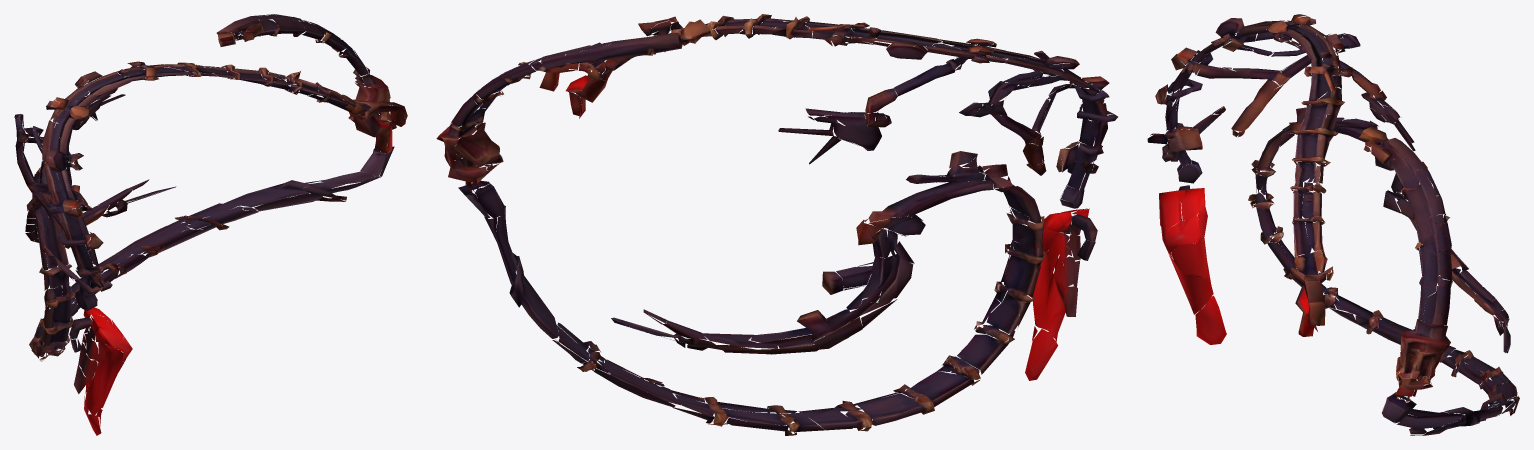
3 renders of one model, left to right at view 1: azimuth 30°, elevation 25°; view 2: azimuth 150°, elevation 25°; view 3: azimuth 270°, elevation 25°, orthographic. The views are drawn at different scales.
Parts seen in each view (by area): view 1: W202; view 2: W202; view 3: W202.
Boxes of the visible parts, <box> form: W202: <box>14,14,407,435</box>; W202: <box>436,14,1117,435</box>; W202: <box>1147,14,1519,435</box>.
Size of the model in its own units: 0.7933 by 0.5269 by 0.5316.
1 material, 1 textured.
